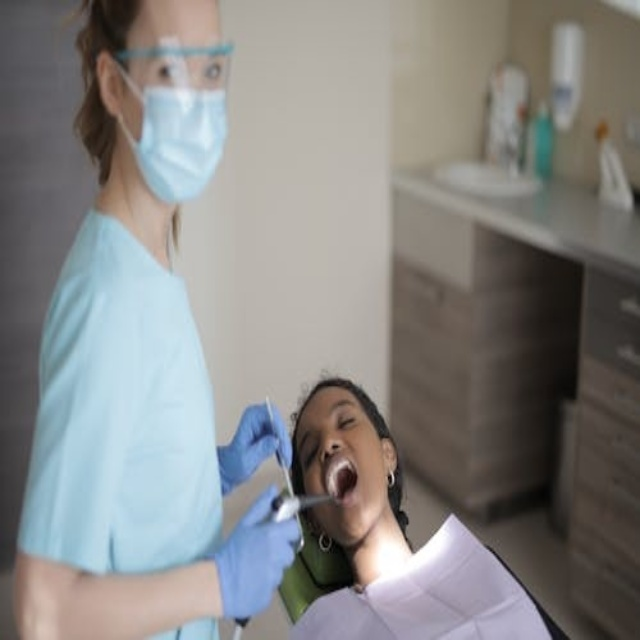Gafas: (112, 41, 236, 91)
Guantes: (209, 485, 301, 620), (217, 400, 290, 496)
Mascara: (119, 77, 232, 208)
Sin_gafas: (300, 390, 362, 469)
Sin_mascara: (314, 452, 372, 509)
